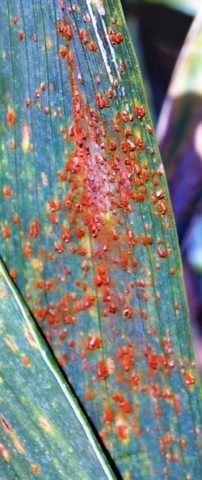Leaf Rust: (1, 11, 202, 458)
